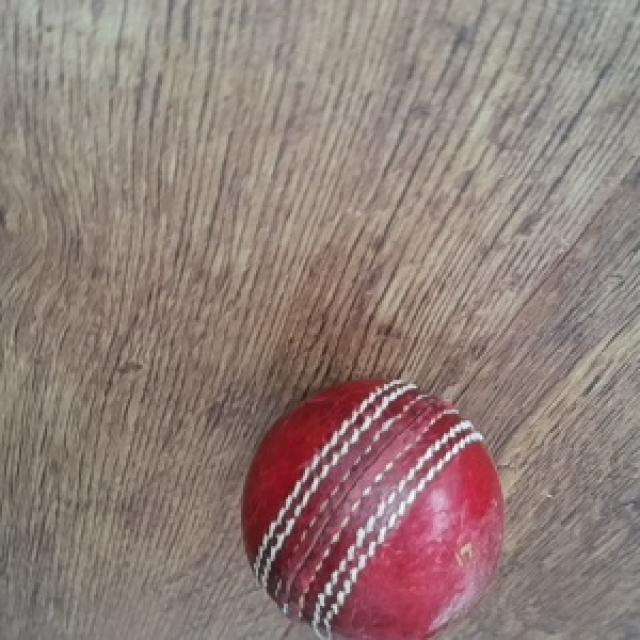ball: (239, 380, 508, 640)
